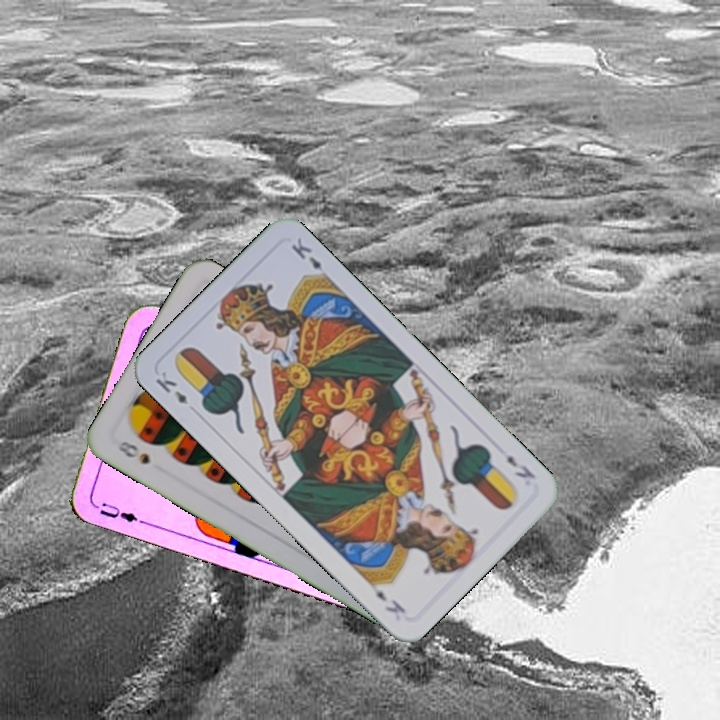EK: (151, 367, 191, 407), (502, 450, 538, 482)
EU: (95, 498, 147, 529)
S8: (113, 436, 153, 467)
